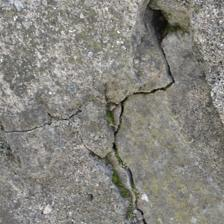Crack: (0, 52, 135, 175), (102, 118, 224, 163), (41, 33, 119, 73), (31, 21, 66, 101)
